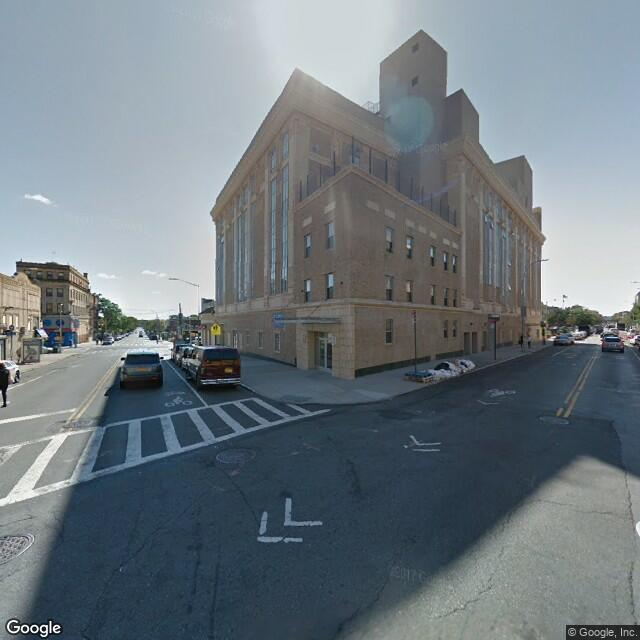litter: (117, 564, 124, 568)
